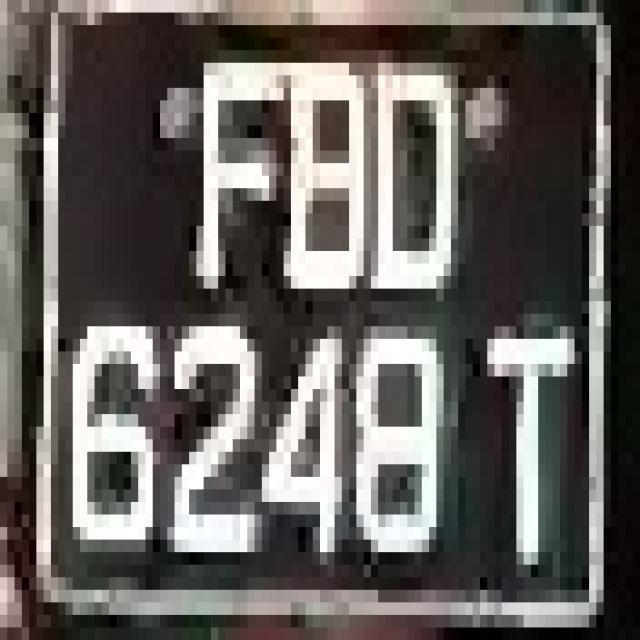2: (153, 301, 269, 577)
4: (240, 302, 342, 602)
6: (51, 289, 167, 552)
8: (342, 301, 465, 590)
B: (262, 25, 371, 301)
D: (356, 50, 458, 326)
F: (174, 25, 284, 314)
T: (473, 301, 589, 577)
